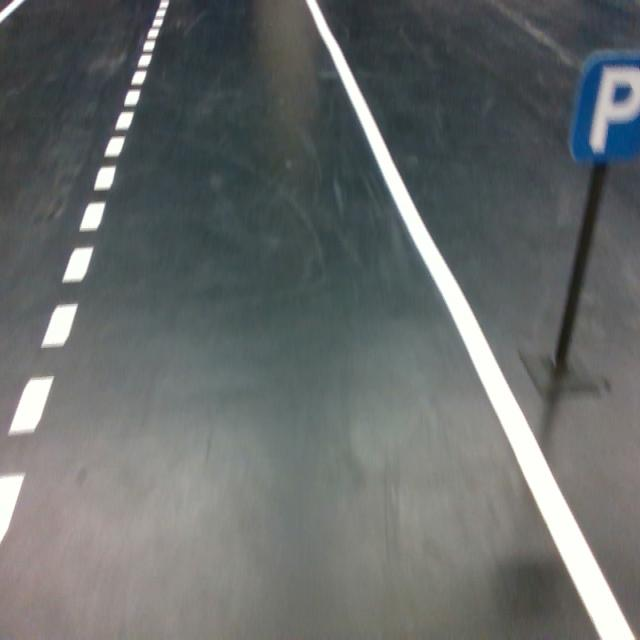parking-sign: (567, 50, 640, 163)
